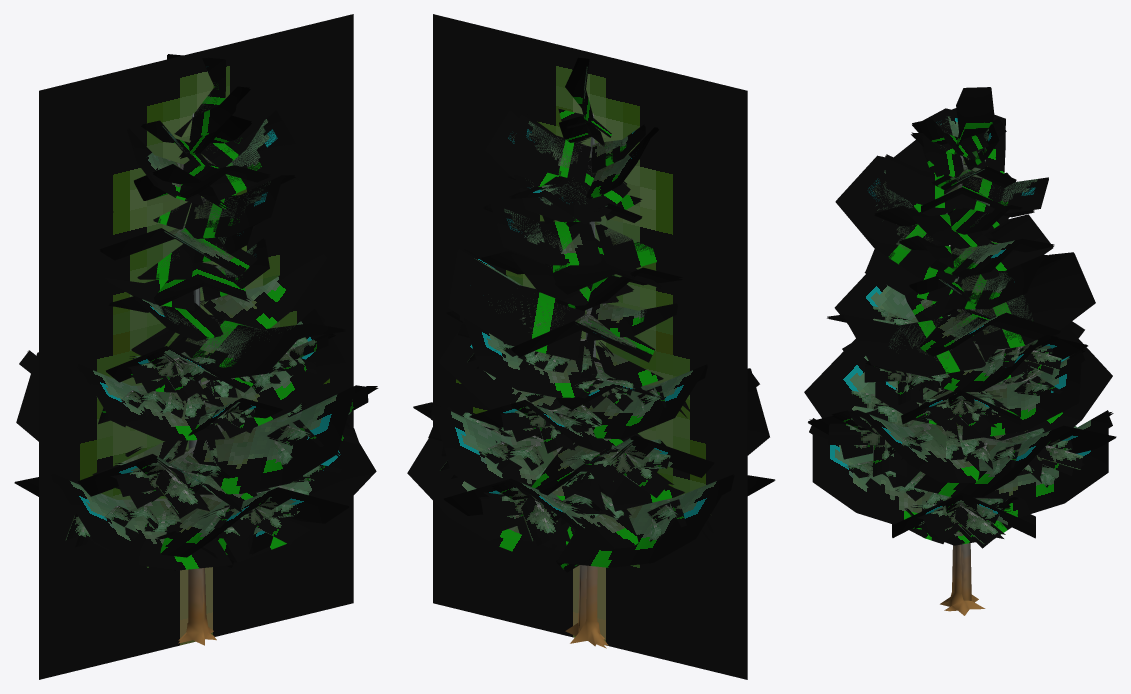
File: plants_tree01.gltf
3 views of the same model, side by side, from view 1: azimuth 30°, elevation 25°; view 2: azimuth 150°, elevation 25°; view 3: azimuth 270°, elevation 25° (orthographic). The views are drawn at different scales.
Parts seen in each view (by area): view 1: plants_tree01; view 2: plants_tree01; view 3: plants_tree01.
Part boxes in pixels (x1,y1,x2,y2): plants_tree01: (14,14,378,679); plants_tree01: (407,14,775,679); plants_tree01: (804,87,1116,615).
Size of the model in its own units: 5.65 by 10.12 by 5.43.
4 materials, 4 textured.
